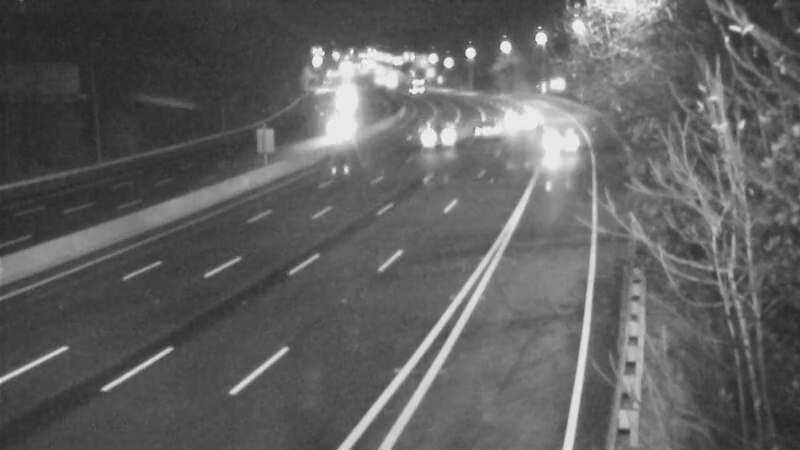vehicle: (394, 64, 444, 114), (488, 97, 538, 147), (535, 114, 585, 164), (456, 104, 506, 154), (422, 109, 472, 159), (303, 109, 353, 159), (320, 64, 370, 114)
